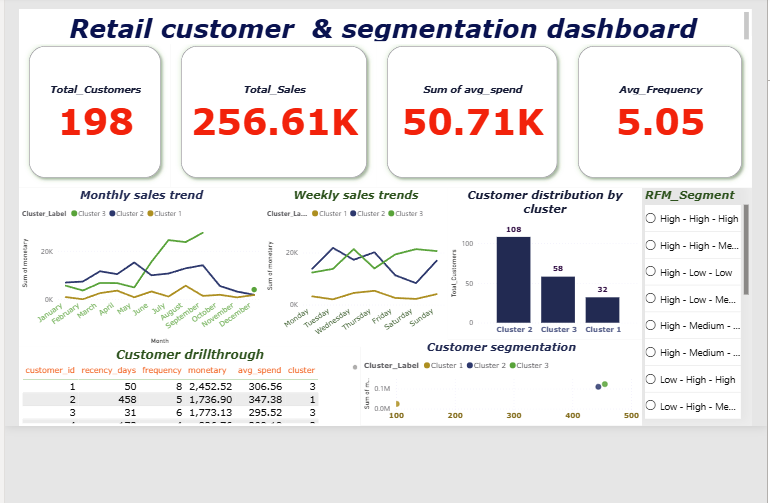

This screenshot's page, from the dashboard's own definition file:
{"tool":"powerbi","page":{"name":"Dash board","canvas":[1280,720],"ordinal":4},"visuals":[{"type":"cardVisual","fields":{"Data":["customer_segments_final.Total_Customers"]},"box":[23.5,65.5,255.3,255.3],"z":0},{"type":"cardVisual","fields":{"Data":["customer_segments_final.Total_Sales"]},"box":[278.8,65.5,346,255.3],"z":1000},{"type":"cardVisual","fields":{"Data":["Sum(customer_segments_final.avg_spend)"]},"box":[624.9,65.5,320.8,255.3],"z":2000},{"type":"cardVisual","fields":{"Data":["customer_segments_final.Avg_Frequency"]},"box":[945.7,65.5,309.1,255.3],"z":3000},{"type":"columnChart","title":"Customer distribution by cluster","fields":{"Category":["customer_segments_final.Cluster_Label"],"Y":["customer_segments_final.Total_Customers"]},"box":[744.1,320.8,356.1,255.3],"z":4000},{"type":"lineChart","title":"Monthly sales trend","fields":{"Category":["customer_segments_final.Month"],"Y":["Sum(customer_segments_final.monetary)"],"Series":["customer_segments_final.Cluster_Label"]},"box":[23.5,320.8,428.3,267.1],"z":5000},{"type":"lineChart","title":"Weekly sales trends","fields":{"Category":["customer_segments_final.Day_of_Week"],"Y":["Sum(customer_segments_final.monetary)"],"Series":["customer_segments_final.Cluster_Label"]},"box":[451.9,320.8,292.3,267.1],"z":6000},{"type":"tableEx","title":"Customer drillthrough","fields":{"Values":["customer_segments_final.customer_id","customer_segments_final.recency_days","customer_segments_final.frequency","customer_segments_final.monetary","customer_segments_final.avg_spend","customer_segments_final.cluster"]},"box":[23.5,587.9,601.4,132.7],"z":7000},{"type":"listSlicer","fields":{"Values":["customer_segments_final.RFM_Segment"]},"box":[1100.3,320.8,154.5,399.8],"z":8000},{"type":"scatterChart","title":"Customer segmentation","fields":{"X":["Sum(customer_segments_final.frequency)"],"Y":["Sum(customer_segments_final.monetary)"],"Series":["customer_segments_final.Cluster_Label"]},"box":[624.9,576.2,475.4,144.5],"z":9000},{"type":"textbox","box":[23.5,20.2,1231.3,58.8],"z":10000}]}

Visuals, with their boxes on the page's 1280x720 design canvas (x1, y1, x2, y2). These are canvas units, not pixel positions in the 770x503 screenshot, which may show the page scaled, cropped or inside an application window:
cardVisual - customer_segments_final.Total_Customers: select_region(24, 66, 279, 321)
cardVisual - customer_segments_final.Total_Sales: select_region(279, 66, 625, 321)
cardVisual - Sum(customer_segments_final.avg_spend): select_region(625, 66, 946, 321)
cardVisual - customer_segments_final.Avg_Frequency: select_region(946, 66, 1255, 321)
"Customer distribution by cluster" columnChart: select_region(744, 321, 1100, 576)
"Monthly sales trend" lineChart: select_region(24, 321, 452, 588)
"Weekly sales trends" lineChart: select_region(452, 321, 744, 588)
"Customer drillthrough" tableEx: select_region(24, 588, 625, 721)
listSlicer - customer_segments_final.RFM_Segment: select_region(1100, 321, 1255, 721)
"Customer segmentation" scatterChart: select_region(625, 576, 1100, 721)
textbox: select_region(24, 20, 1255, 79)
